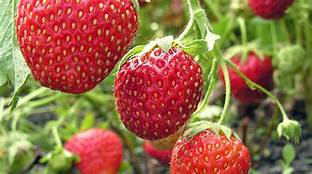Fresa: (12, 1, 142, 99), (111, 39, 209, 143), (166, 118, 259, 174), (218, 40, 280, 107), (56, 124, 126, 174)
